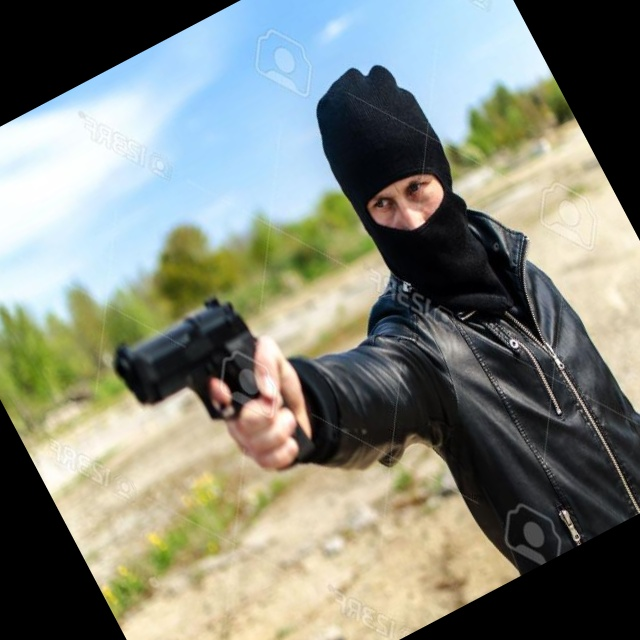gun: (82, 267, 340, 540)
